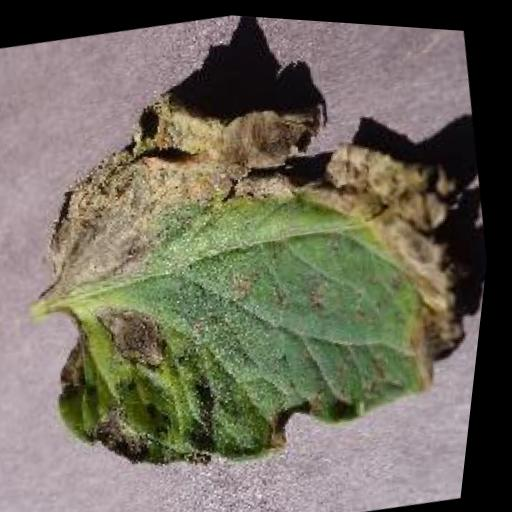Early Blight: (0, 32, 509, 508)
